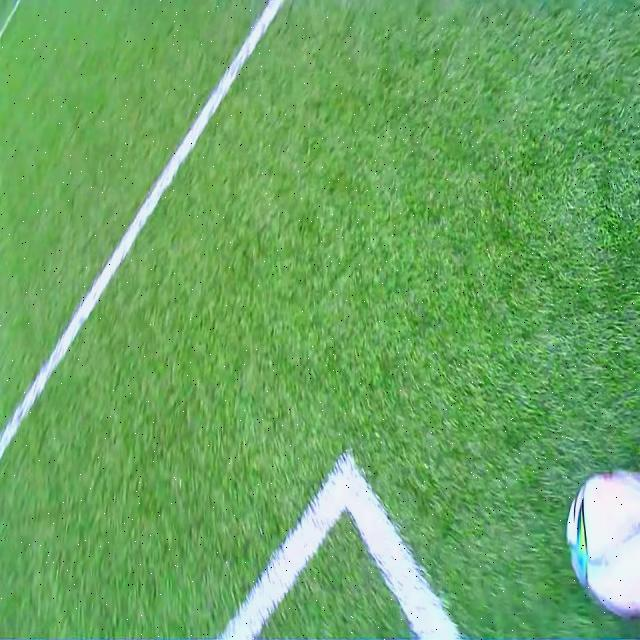ball: (567, 469, 640, 622)
